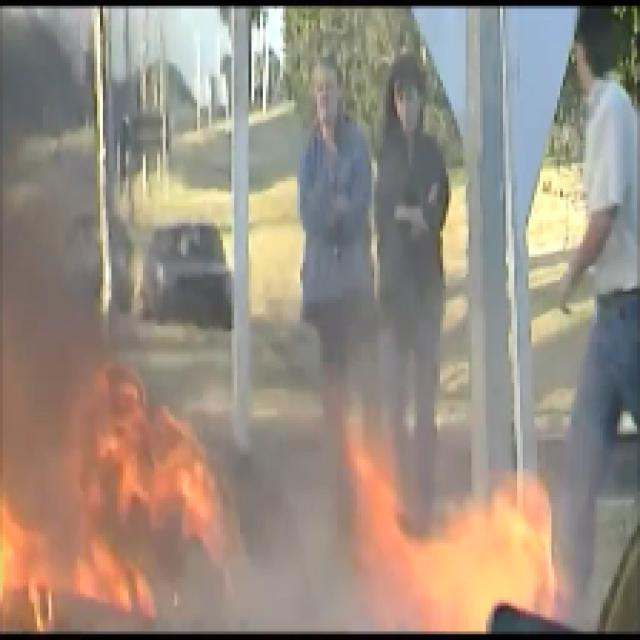Fire: (2, 383, 258, 634), (321, 408, 568, 634)
Smoke: (0, 5, 234, 380)
